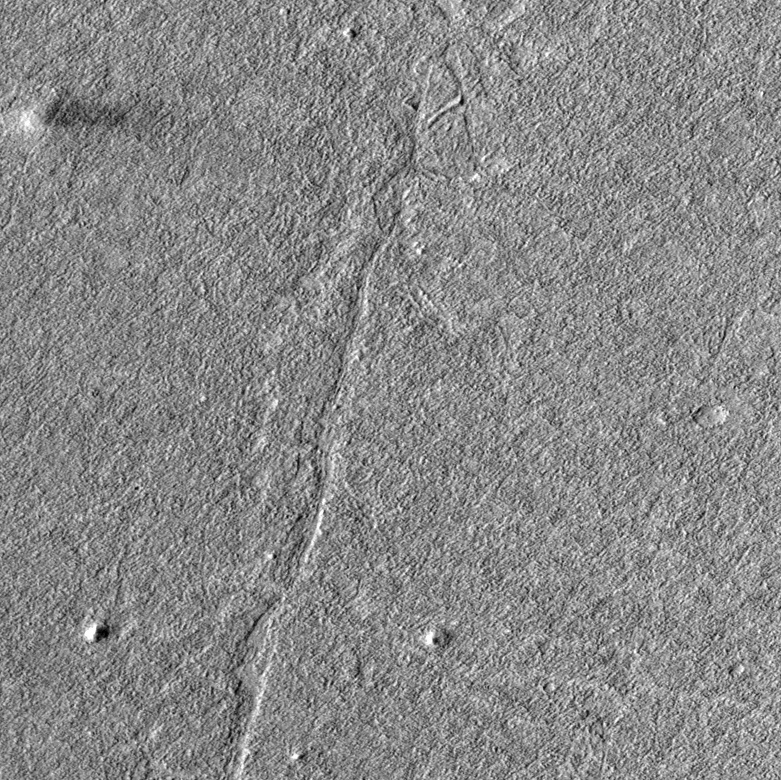dust_devil: (18, 95, 130, 134)
